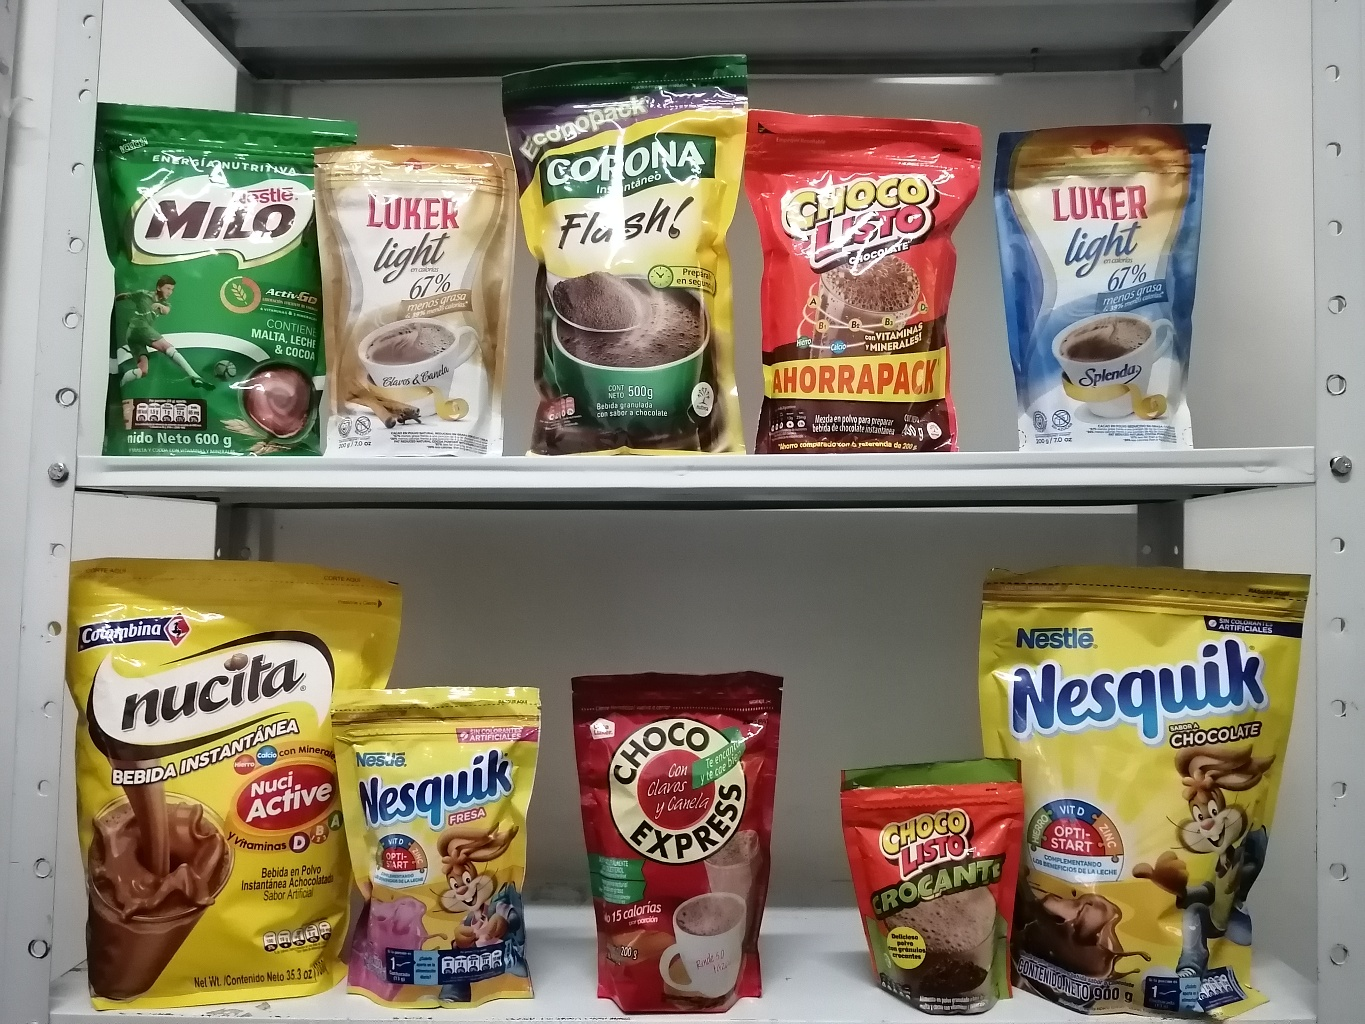COL0170102DYP10000: (819, 750, 1029, 1019)
COL0170103DYP40000: (734, 96, 989, 459)
COL0170305DYP20000: (308, 672, 556, 1009)
